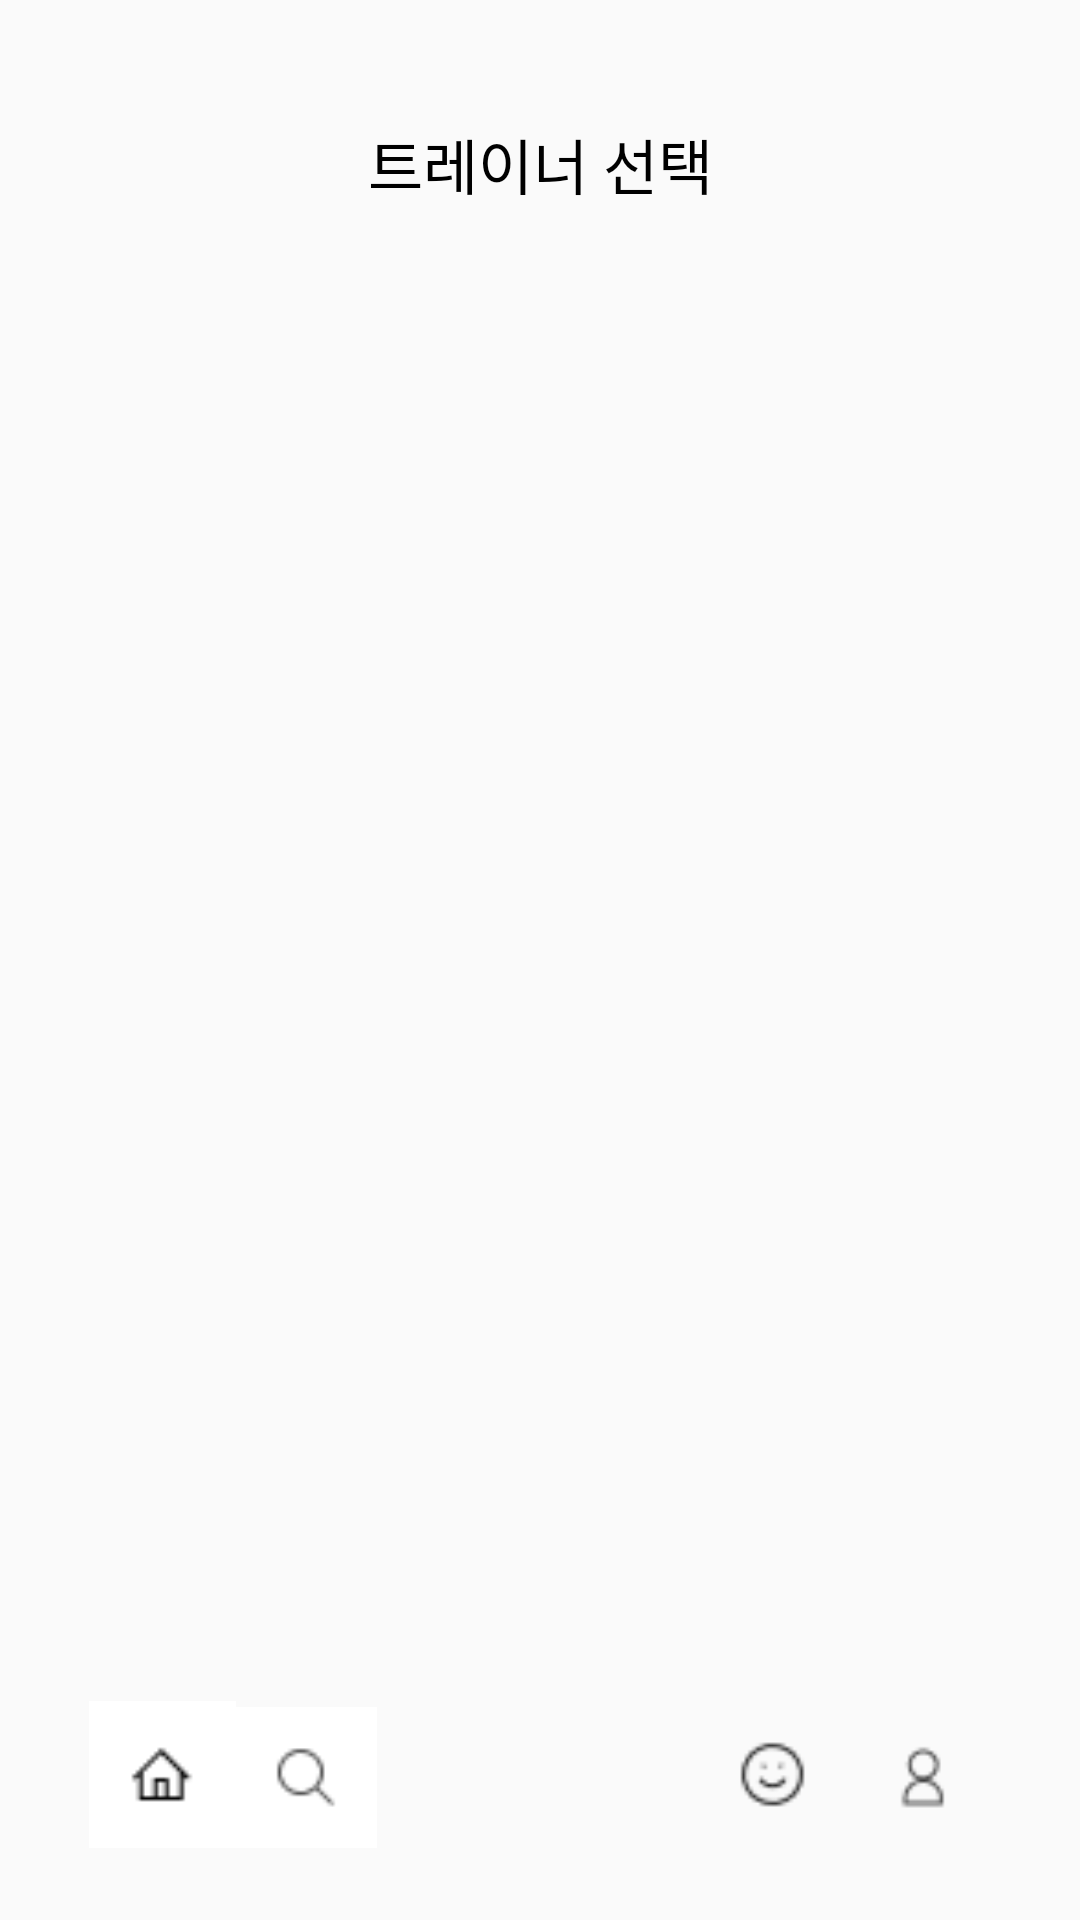

Point at icon controls on the screen. Image size 1080 × 1920, points as point (x, y).
home: point (161, 1775)
profile: point (922, 1777)
search: point (306, 1777)
